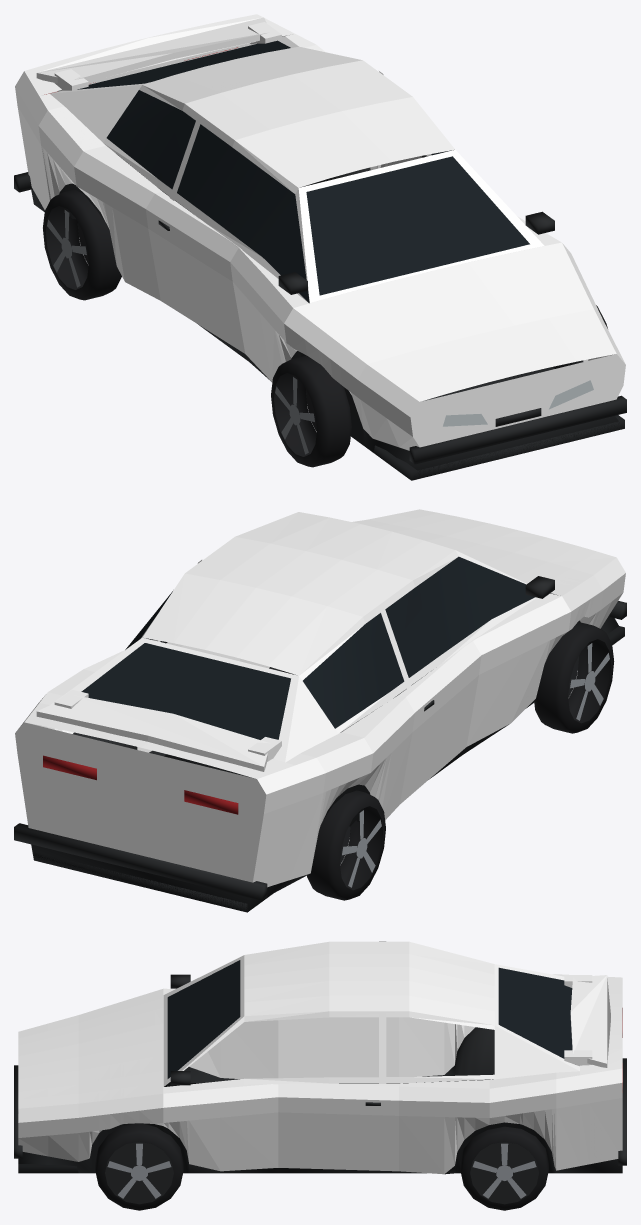
Rendered from hozuki_rastro.glb.
3 renders of one model, top to bottom at view 1: azimuth 30°, elevation 25°; view 2: azimuth 150°, elevation 25°; view 3: azimuth 270°, elevation 25°, orthographic. The views are drawn at different scales.
Parts seen in each view (by area): view 1: Body_Paint, Body_Details, Mount_FrontLeft_Wheel_Details, Mount_RearLeft_Wheel_Details; view 2: Body_Paint, Body_Details, Mount_FrontLeft_Wheel_Details, Mount_RearLeft_Wheel_Details; view 3: Body_Paint, Body_Details, Mount_FrontRight_Wheel_Details, Mount_RearRight_Wheel_Details.
Boxes of the visible parts, <box> form: Body_Paint: <box>15,14,625,450</box>; Body_Details: <box>14,40,626,480</box>; Mount_FrontLeft_Wheel_Details: <box>271,355,351,467</box>; Mount_RearLeft_Wheel_Details: <box>43,189,121,300</box>; Body_Paint: <box>15,509,625,887</box>; Body_Details: <box>14,556,626,912</box>; Mount_FrontLeft_Wheel_Details: <box>534,622,614,733</box>; Mount_RearLeft_Wheel_Details: <box>307,790,385,900</box>; Body_Paint: <box>18,941,622,1174</box>; Body_Details: <box>14,960,626,1174</box>; Mount_FrontRight_Wheel_Details: <box>95,1123,183,1210</box>; Mount_RearRight_Wheel_Details: <box>460,1126,548,1210</box>.
Size of the model in its own units: 1.78 by 1.29 by 3.94.
2 materials, 1 textured.
